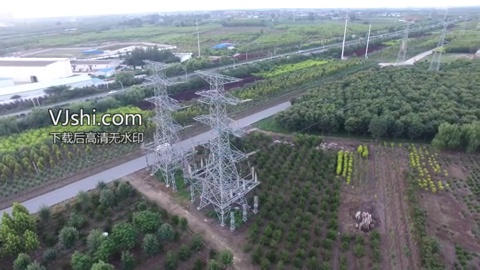tower_body: (188, 67, 267, 228), (138, 55, 192, 194)
tower_foot: (194, 169, 260, 225), (142, 139, 188, 191)
tower_head: (190, 68, 247, 108), (140, 58, 180, 86)
